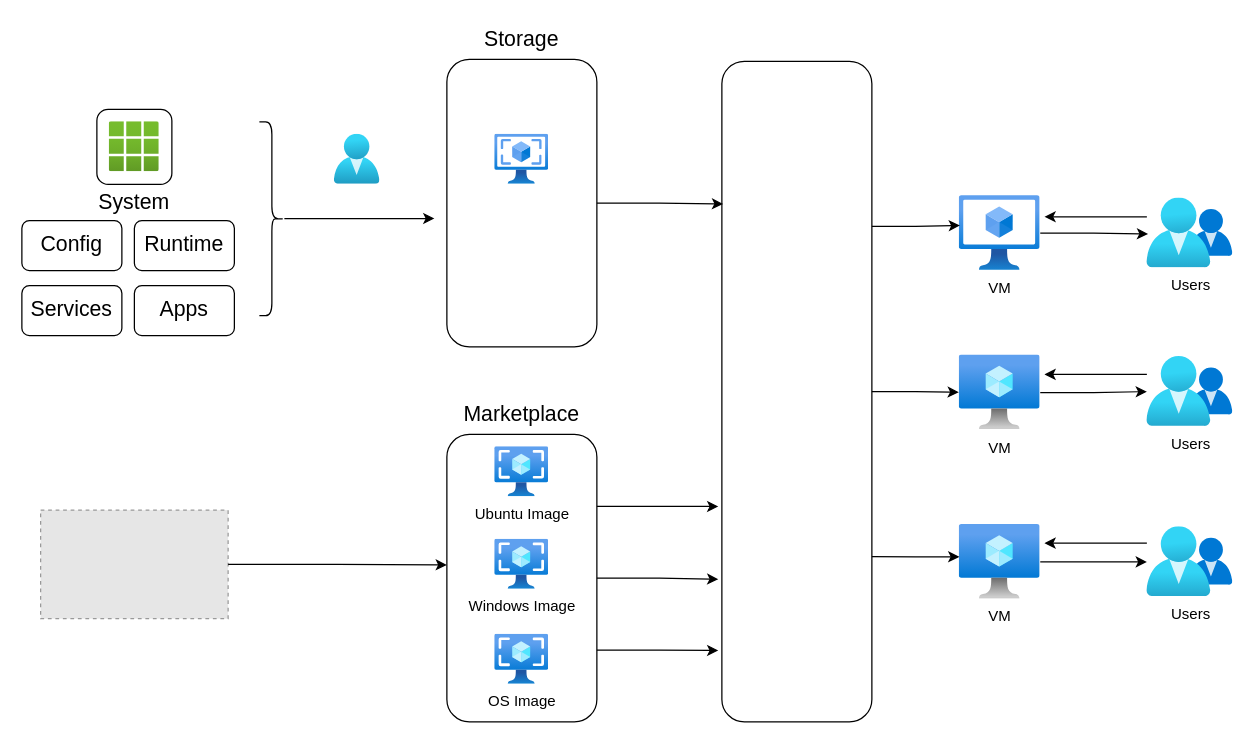
The diagram is 1255 pixels wide and 744 high, and some of its shapes have lost their labels. Grey dashed boxes stand in for pictures. Each missing label, with the box of its shape:
Azure Virtual Machine: (721, 60, 872, 722)
Custom Image: (494, 134, 548, 184)
Dev: (334, 134, 380, 184)
